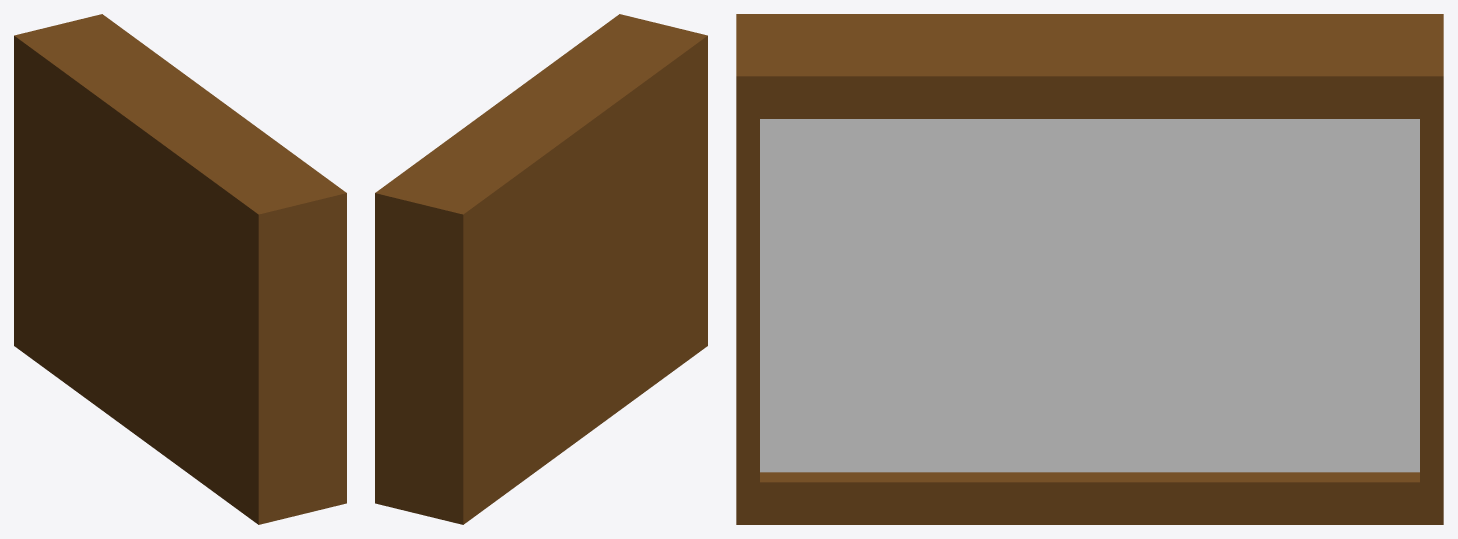
The picture shows the model from 3 angles, left to right: view 1: azimuth 30°, elevation 25°; view 2: azimuth 150°, elevation 25°; view 3: azimuth 270°, elevation 25°; orthographic projection. The views are drawn at different scales.
Size of the model in its own units: 50 by 168 by 240.
1 material, 1 textured.
